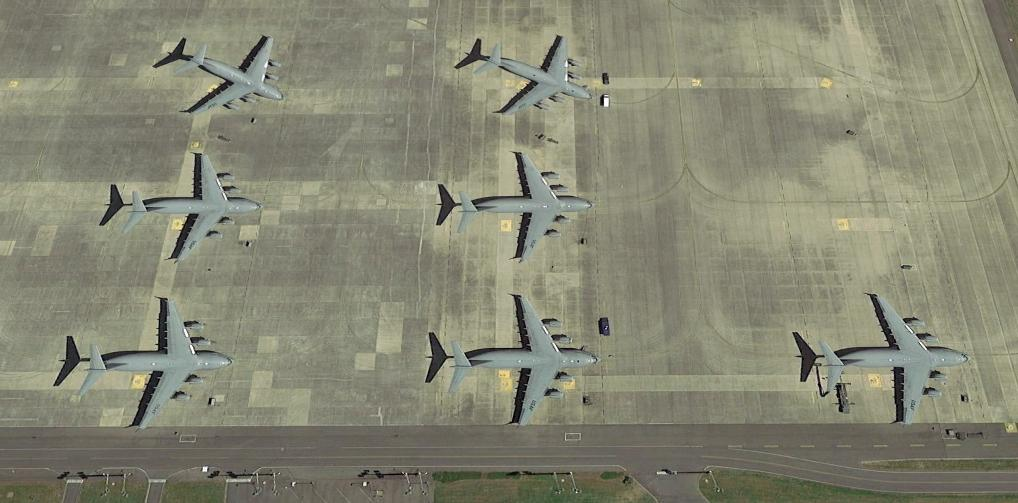C-17: (432, 288, 602, 432), (802, 290, 972, 430), (70, 294, 233, 431), (441, 146, 595, 262), (116, 149, 267, 267), (467, 27, 593, 126), (173, 29, 295, 117)
